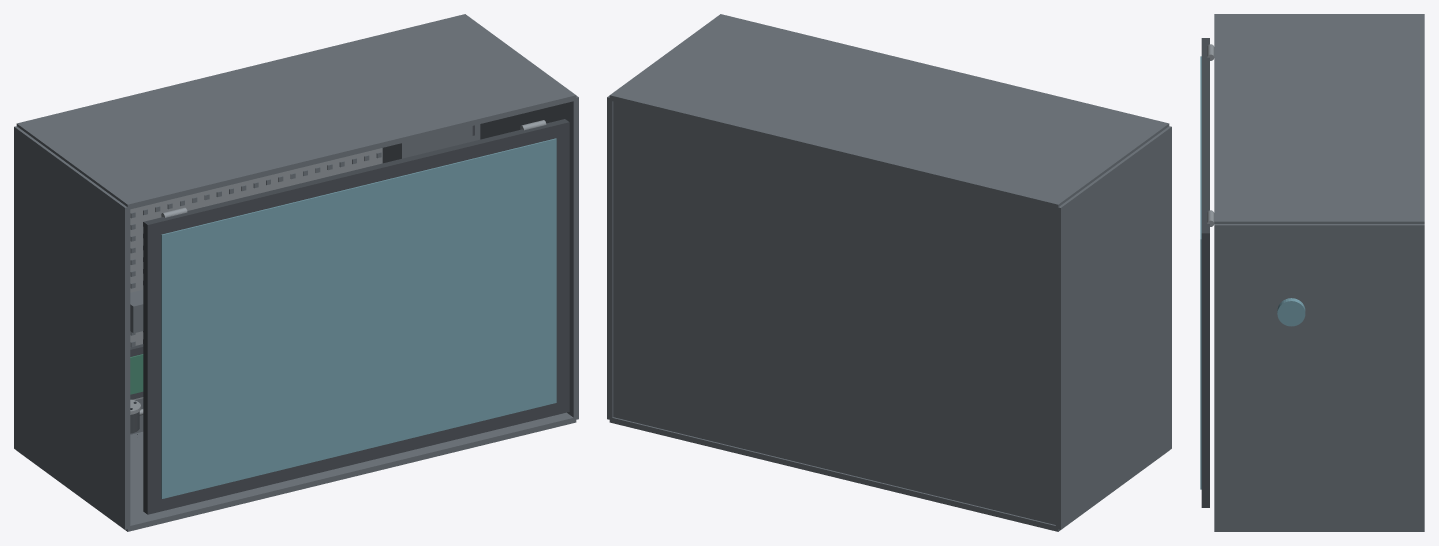
Rendered from laser-co2-50w.glb.
3 renders of one model, left to right at view 1: azimuth 30°, elevation 25°; view 2: azimuth 150°, elevation 25°; view 3: azimuth 270°, elevation 25°, orthographic. The views are drawn at different scales.
Parts seen in each view (by area): view 1: 0007_Laser-safe_viewing_panel, 0005_Front/rear_enclosure_panel, 0002_Side_enclosure_panel, 0006_Lid_frame, 0004_Front/rear_enclosure_panel, 0010_Honeycomb_bed_frame, 0003_Side_enclosure_panel, 0551_HV_laser_power_supply; view 2: 0001_Lower_sheet-metal_chassis, 0005_Front/rear_enclosure_panel, 0002_Side_enclosure_panel, 0004_Front/rear_enclosure_panel, 0003_Side_enclosure_panel; view 3: 0003_Side_enclosure_panel, 0005_Front/rear_enclosure_panel, 0006_Lid_frame, 0007_Laser-safe_viewing_panel, 0548_CO2_glass_laser_tube, 0004_Front/rear_enclosure_panel.
Boxes of the visible parts, box(x1,y1,x2,y2) form: 0007_Laser-safe_viewing_panel: box(161, 138, 556, 498); 0005_Front/rear_enclosure_panel: box(16, 14, 576, 209); 0002_Side_enclosure_panel: box(14, 126, 130, 529); 0006_Lid_frame: box(143, 119, 569, 514); 0004_Front/rear_enclosure_panel: box(17, 412, 576, 531); 0010_Honeycomb_bed_frame: box(130, 148, 382, 400); 0003_Side_enclosure_panel: box(480, 95, 578, 420); 0551_HV_laser_power_supply: box(382, 126, 472, 163); 0001_Lower_sheet-metal_chassis: box(613, 101, 1055, 524); 0005_Front/rear_enclosure_panel: box(609, 14, 1169, 209); 0002_Side_enclosure_panel: box(1055, 126, 1171, 529); 0004_Front/rear_enclosure_panel: box(609, 417, 1168, 531); 0003_Side_enclosure_panel: box(607, 95, 613, 420); 0003_Side_enclosure_panel: box(1214, 224, 1424, 530); 0005_Front/rear_enclosure_panel: box(1214, 14, 1424, 223); 0006_Lid_frame: box(1201, 38, 1209, 507); 0007_Laser-safe_viewing_panel: box(1200, 56, 1201, 489); 0548_CO2_glass_laser_tube: box(1277, 298, 1305, 326); 0004_Front/rear_enclosure_panel: box(1214, 530, 1424, 531).
Bounding box in the file's own units: 718 × 490 × 320.
